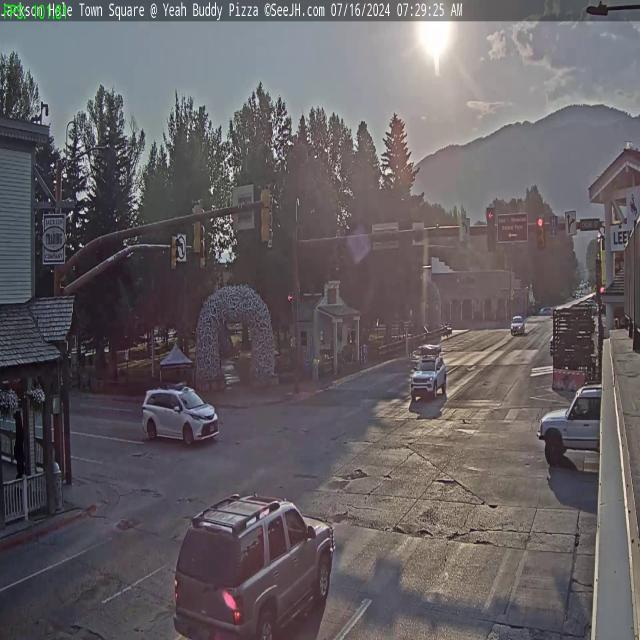suv: (171, 486, 337, 640), (142, 380, 220, 448), (410, 349, 448, 402), (511, 314, 526, 334)
traffic light: (190, 200, 203, 256), (260, 184, 272, 244), (486, 207, 496, 252), (172, 233, 180, 273), (536, 215, 545, 248)
